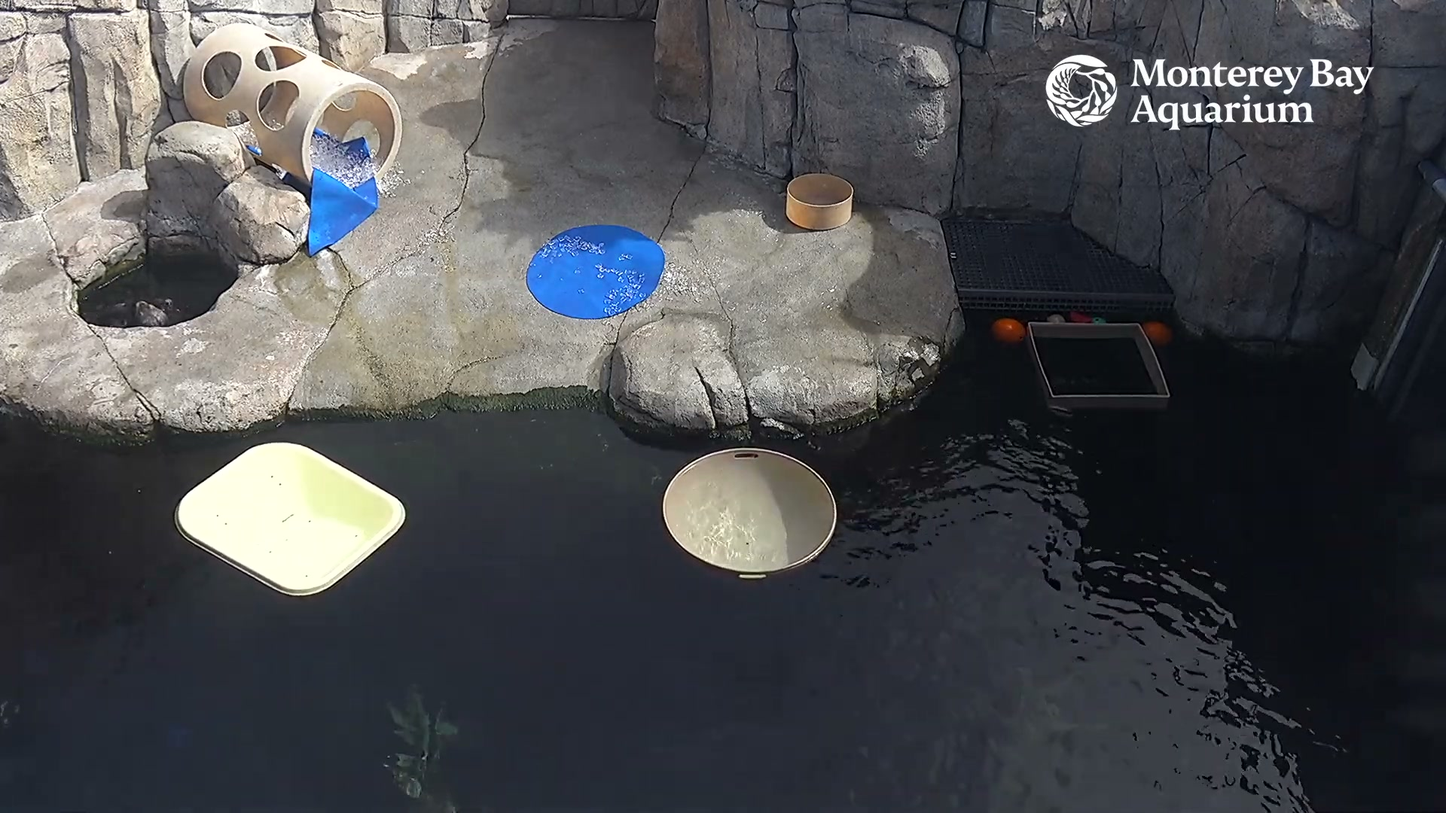Southern Sea Otter: (109, 280, 181, 336)
